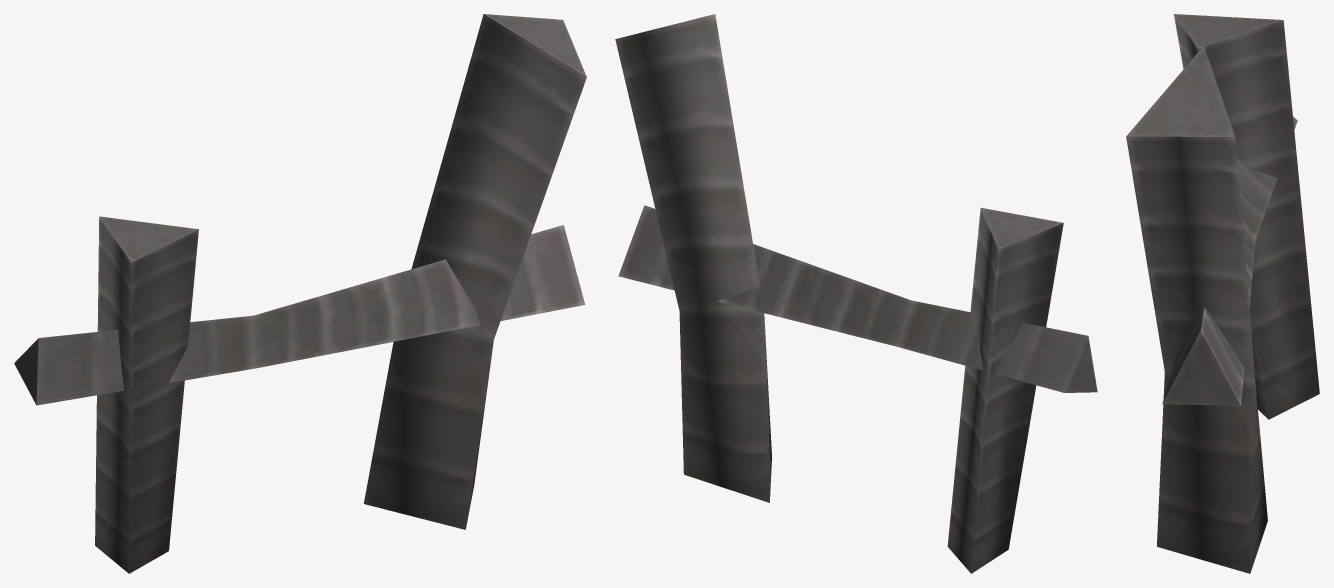
File: ww2_iron.obj
The picture shows the model from 3 angles, left to right: view 1: azimuth 30°, elevation 25°; view 2: azimuth 150°, elevation 25°; view 3: azimuth 270°, elevation 25°; orthographic projection. The views are drawn at different scales.
Visible parts, largest first — view 1: ww2_iron; view 2: ww2_iron; view 3: ww2_iron.
Part boxes in pixels (x1,y1,x2,y2): ww2_iron: [14, 14, 586, 573]; ww2_iron: [615, 14, 1097, 573]; ww2_iron: [1126, 14, 1319, 573].
Bounding box in the file's own units: 0.7601 × 0.6757 × 0.2274.
1 material, 1 textured.
